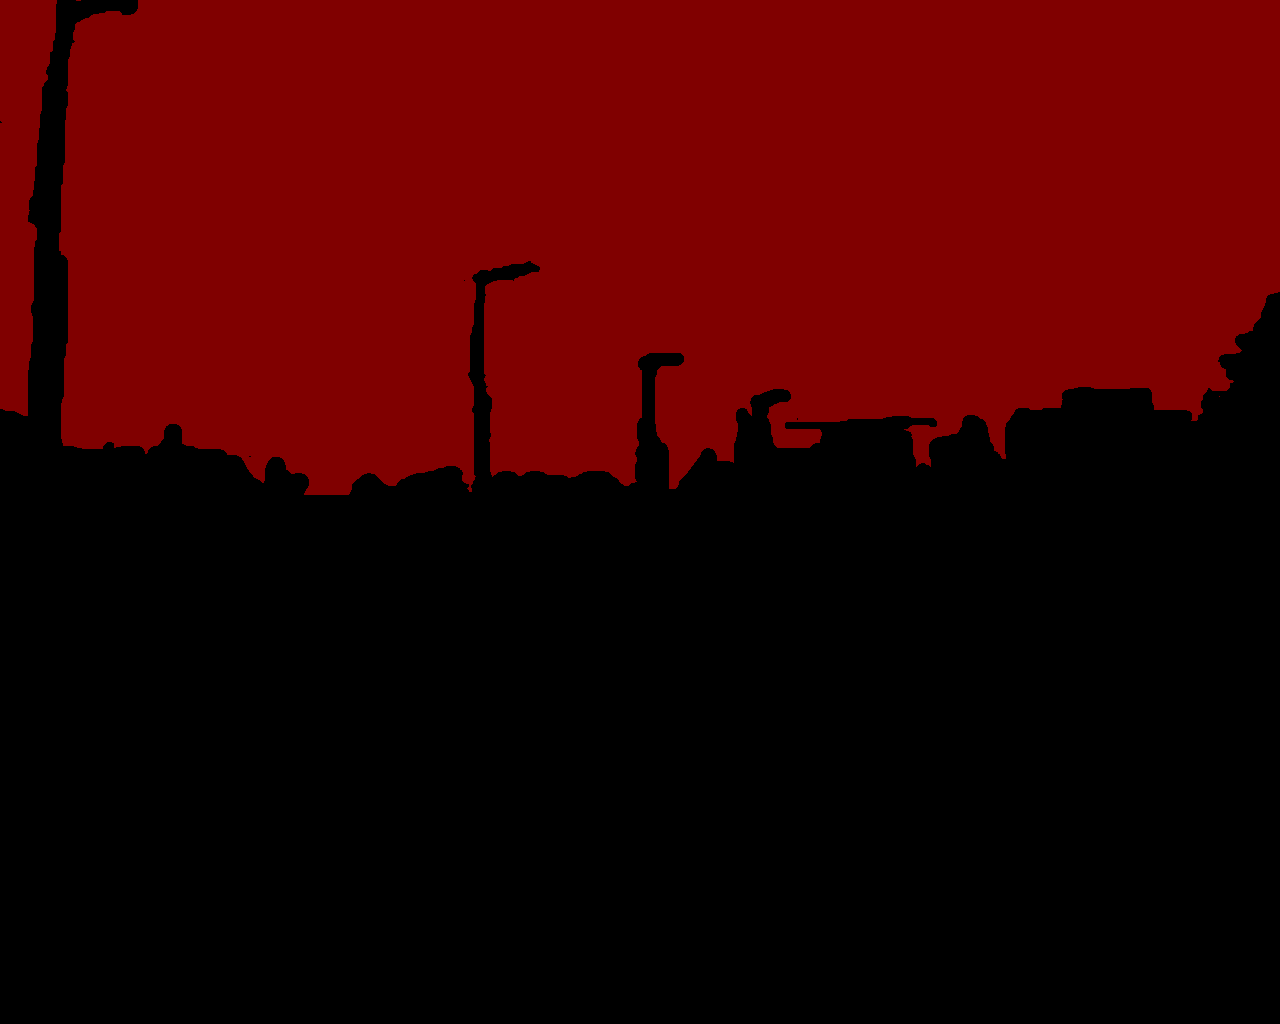Sky: (1, 1, 1279, 495)
